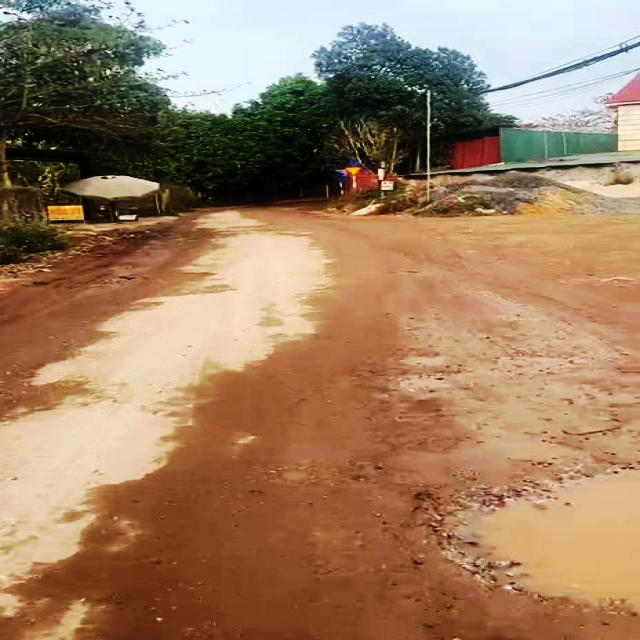pothole: (426, 460, 640, 619)
